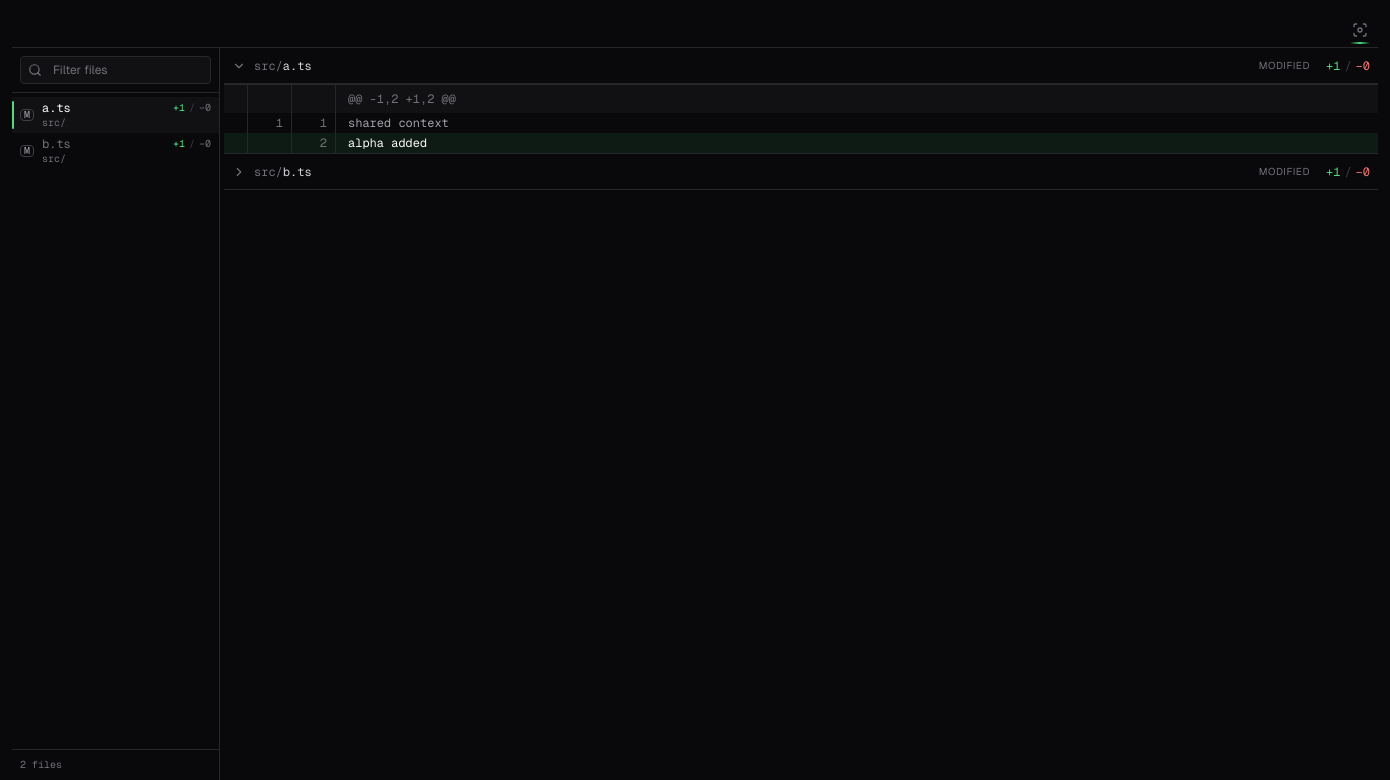
Test: DiffView › the file filter narrows the rail without closing the open file
In the field labelled "Filter files": (116, 70) [20,56,211,84], type "b.ts"
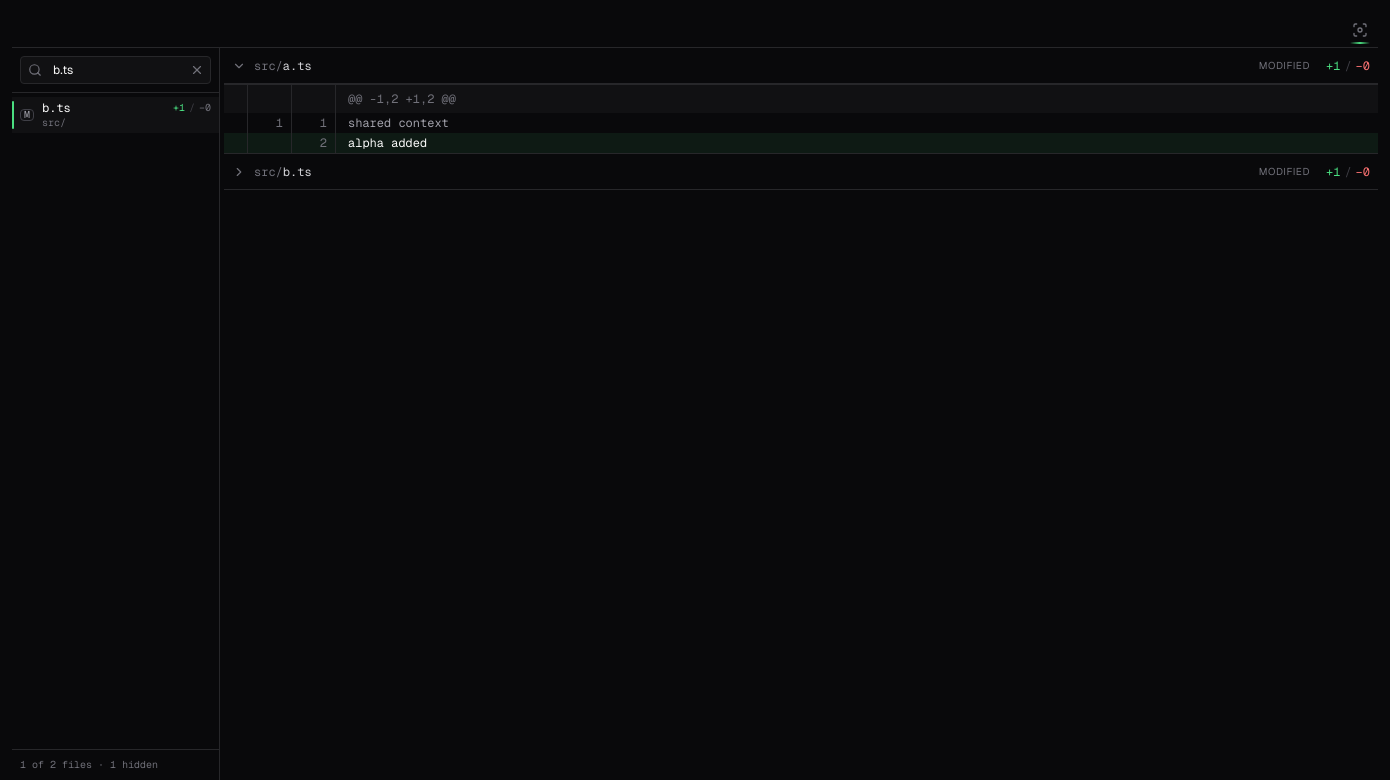
Check: the 1st text "b.ts" is shown, box [42,100,71,116]
Check: the text "1 of 2 files · 1 hidden" is shown, box [12,749,219,779]
